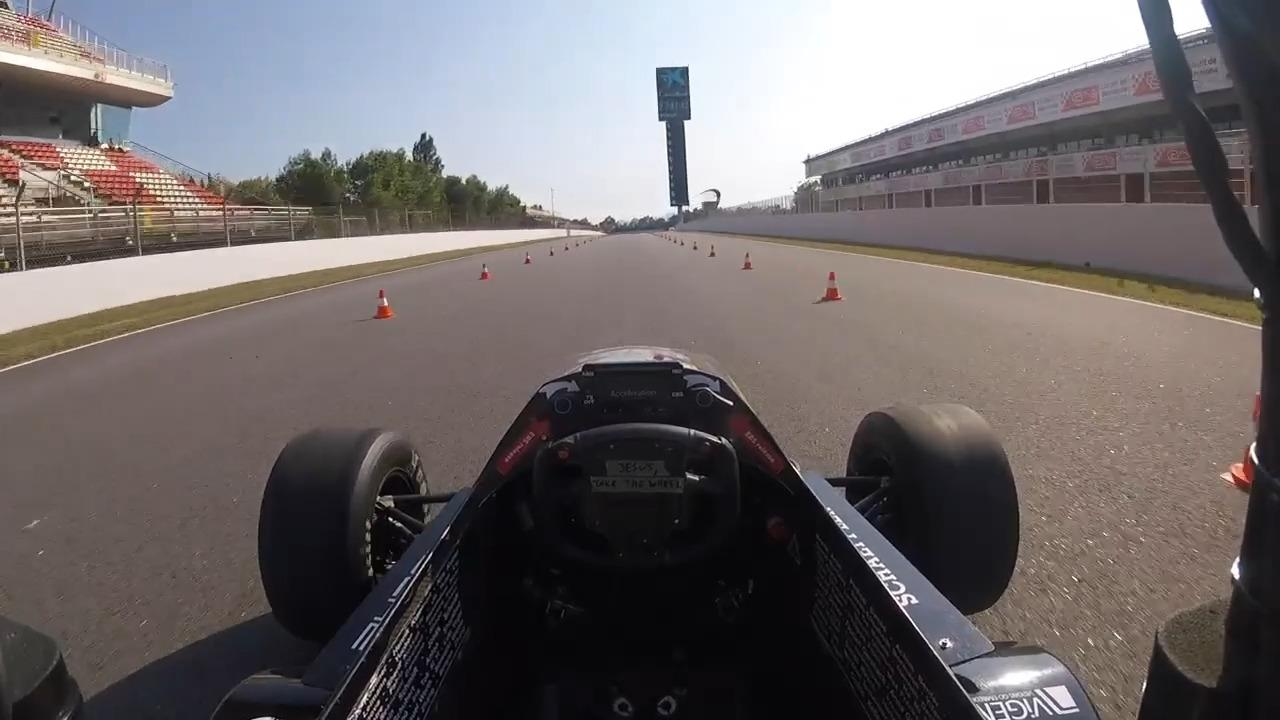orange_cone: (374, 286, 393, 320), (823, 268, 842, 302), (742, 251, 754, 270), (480, 262, 492, 280), (523, 250, 533, 266), (708, 243, 717, 258), (548, 245, 555, 256)
